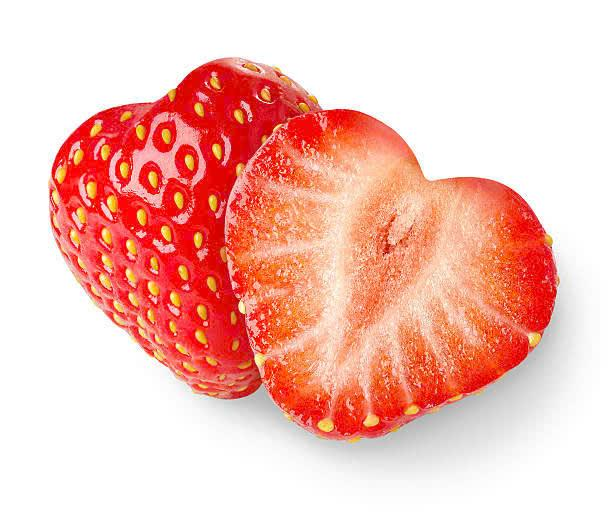strawberry: (223, 108, 555, 434), (36, 66, 252, 410)
